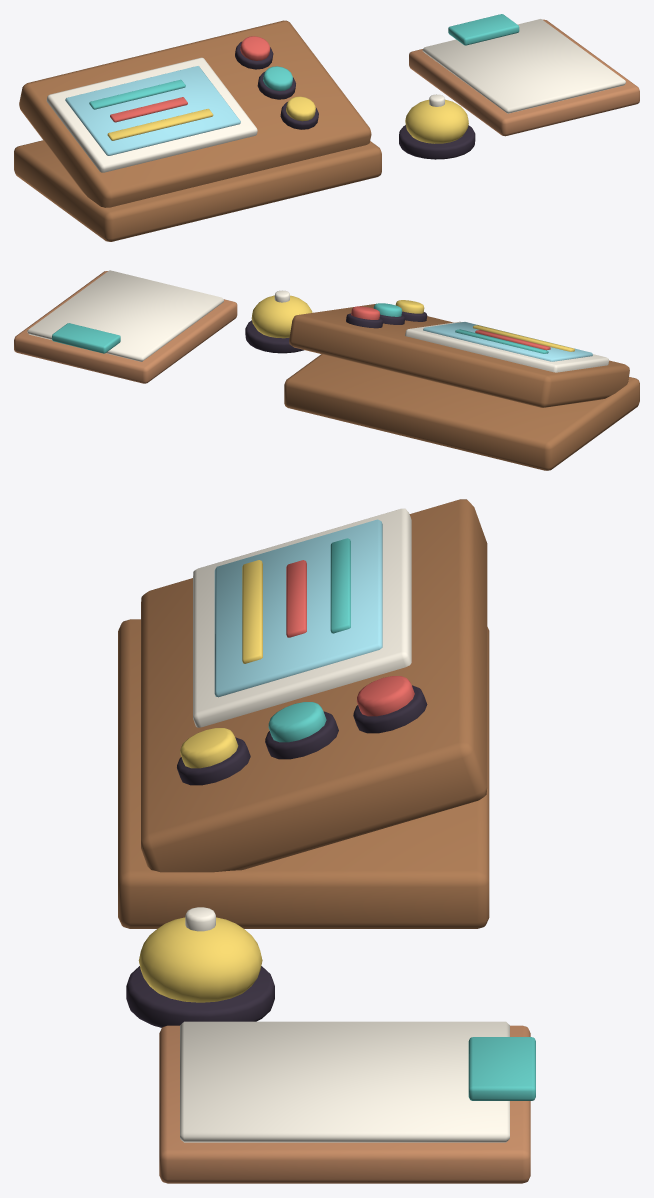
Rendered from teacher-desk-controls.glb.
3 renders of one model, top to bottom at view 1: azimuth 30°, elevation 25°; view 2: azimuth 150°, elevation 25°; view 3: azimuth 270°, elevation 25°, orthographic. The views are drawn at different scales.
Parts seen in each view (by area): view 1: IntTeacherControls_Console, IntTeacherControls_SlateScreen, IntTeacherControls_Display, IntTeacherControls_Folder, IntTeacherControls_ButterBell, IntTeacherControls_TurquoiseCtrl, IntTeacherControls_Bases, IntTeacherControls_CoralFreeze; view 2: IntTeacherControls_Console, IntTeacherControls_SlateScreen, IntTeacherControls_Folder, IntTeacherControls_ButterBell, IntTeacherControls_TurquoiseCtrl, IntTeacherControls_Bases, IntTeacherControls_Display, IntTeacherControls_CoralFreeze; view 3: IntTeacherControls_Console, IntTeacherControls_SlateScreen, IntTeacherControls_Folder, IntTeacherControls_Display, IntTeacherControls_ButterBell, IntTeacherControls_Bases, IntTeacherControls_TurquoiseCtrl, IntTeacherControls_CoralFreeze.
Part boxes in pixels (bbox=[...]): IntTeacherControls_Console: bbox=[14, 20, 381, 241]; IntTeacherControls_SlateScreen: bbox=[46, 19, 625, 172]; IntTeacherControls_Display: bbox=[65, 66, 240, 155]; IntTeacherControls_Folder: bbox=[409, 19, 639, 136]; IntTeacherControls_ButterBell: bbox=[107, 96, 468, 143]; IntTeacherControls_TurquoiseCtrl: bbox=[89, 14, 519, 109]; IntTeacherControls_Bases: bbox=[235, 41, 475, 159]; IntTeacherControls_CoralFreeze: bbox=[110, 36, 270, 122]; IntTeacherControls_Console: bbox=[284, 304, 639, 470]; IntTeacherControls_SlateScreen: bbox=[27, 270, 608, 372]; IntTeacherControls_Folder: bbox=[14, 271, 237, 383]; IntTeacherControls_ButterBell: bbox=[251, 295, 574, 351]; IntTeacherControls_TurquoiseCtrl: bbox=[52, 303, 548, 353]; IntTeacherControls_Bases: bbox=[245, 311, 427, 353]; IntTeacherControls_Display: bbox=[423, 322, 592, 361]; IntTeacherControls_CoralFreeze: bbox=[351, 306, 550, 350]; IntTeacherControls_Console: bbox=[118, 499, 489, 928]; IntTeacherControls_SlateScreen: bbox=[180, 508, 509, 1142]; IntTeacherControls_Folder: bbox=[159, 1025, 530, 1183]; IntTeacherControls_Display: bbox=[214, 519, 382, 697]; IntTeacherControls_ButterBell: bbox=[138, 560, 262, 1002]; IntTeacherControls_Bases: bbox=[126, 685, 427, 1027]; IntTeacherControls_TurquoiseCtrl: bbox=[268, 538, 535, 1100]; IntTeacherControls_CoralFreeze: bbox=[286, 560, 414, 716].
Size of the model in its own units: 1.18 by 0.2095 by 0.405.
